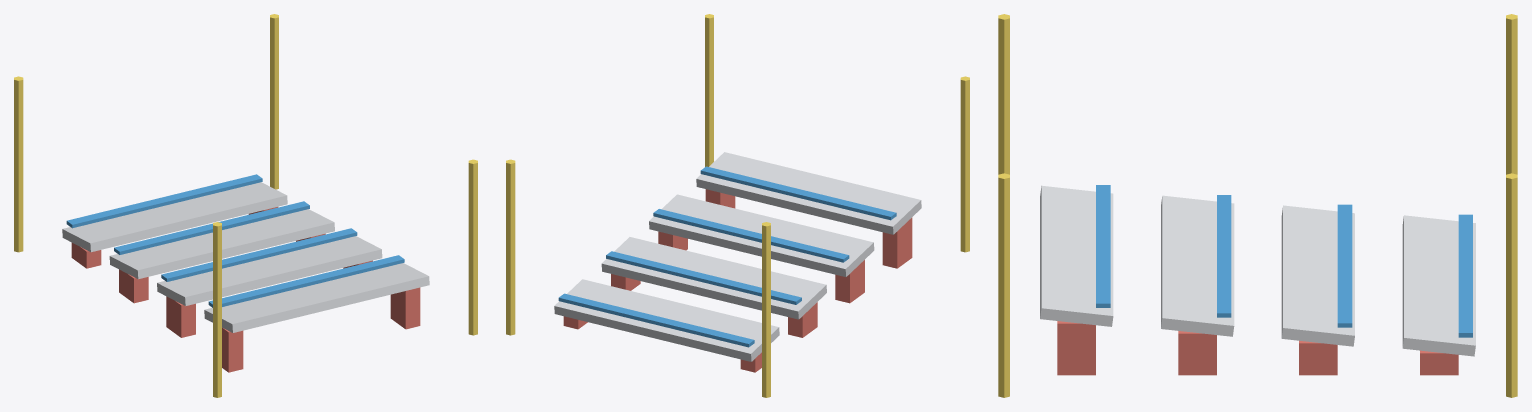
The model's file is dog-agility-and-training-field-long-jump-plank-set-b7506efd__35580.glb.
3 views of the same model, side by side, from view 1: azimuth 30°, elevation 25°; view 2: azimuth 150°, elevation 25°; view 3: azimuth 270°, elevation 25° (orthographic). The views are drawn at different scales.
Parts seen in each view (by area): view 1: long-jump-plank-set-steel, long-jump-plank-set-azure, long-jump-plank-set-sunflower, long-jump-plank-set-poppy; view 2: long-jump-plank-set-steel, long-jump-plank-set-azure, long-jump-plank-set-sunflower, long-jump-plank-set-poppy; view 3: long-jump-plank-set-steel, long-jump-plank-set-sunflower, long-jump-plank-set-azure, long-jump-plank-set-poppy.
Boxes of the visible parts, x1=… form: long-jump-plank-set-steel: x1=62, y1=182, x2=429, y2=332; long-jump-plank-set-azure: x1=66, y1=174, x2=404, y2=307; long-jump-plank-set-sunflower: x1=14, y1=14, x2=477, y2=397; long-jump-plank-set-poppy: x1=71, y1=207, x2=420, y2=372; long-jump-plank-set-steel: x1=554, y1=152, x2=921, y2=361; long-jump-plank-set-azure: x1=558, y1=166, x2=896, y2=347; long-jump-plank-set-sunflower: x1=506, y1=14, x2=969, y2=397; long-jump-plank-set-poppy: x1=563, y1=189, x2=912, y2=372; long-jump-plank-set-steel: x1=1040, y1=185, x2=1475, y2=356; long-jump-plank-set-sunflower: x1=998, y1=14, x2=1517, y2=397; long-jump-plank-set-azure: x1=1096, y1=185, x2=1472, y2=337; long-jump-plank-set-poppy: x1=1057, y1=321, x2=1458, y2=375.
Bounding box in the file's own units: 1.62 × 1 × 2.15.
